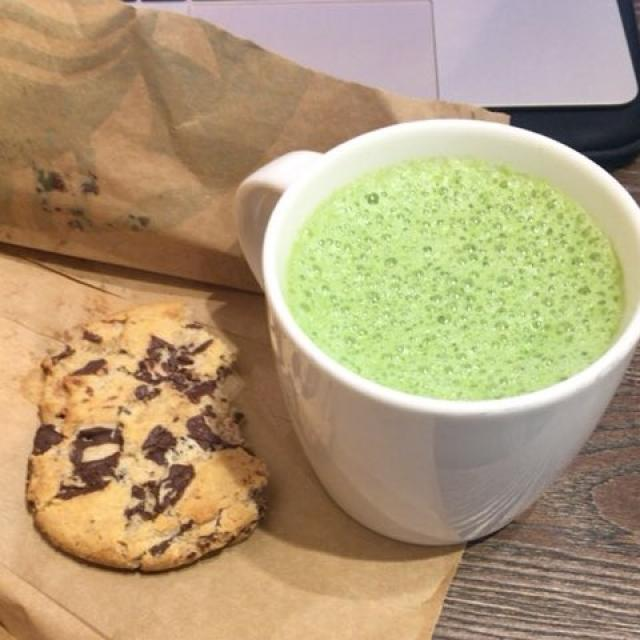cookies: (38, 296, 255, 570)
milk: (295, 158, 615, 395)
